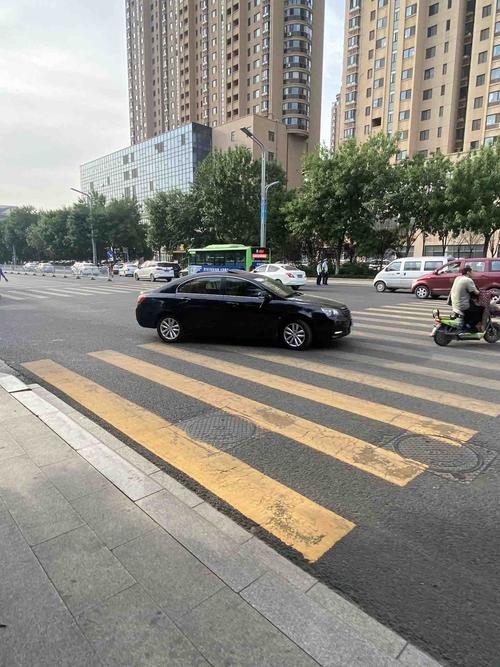bus: (187, 246, 268, 272)
car: (132, 271, 346, 352), (414, 257, 482, 302), (373, 258, 432, 294), (254, 263, 307, 295), (151, 264, 180, 282), (135, 261, 157, 281), (123, 264, 139, 279), (111, 264, 129, 276), (41, 265, 55, 275), (0, 266, 8, 283)
motorcycle: (431, 305, 500, 348)
person: (450, 263, 483, 332), (317, 257, 329, 288)
